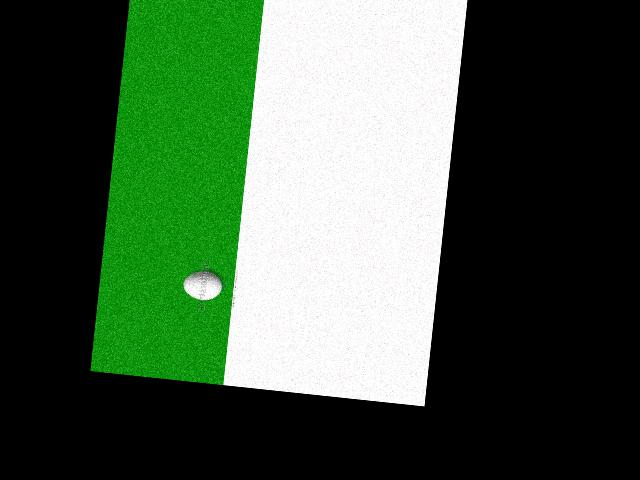egg: (182, 269, 223, 302)
